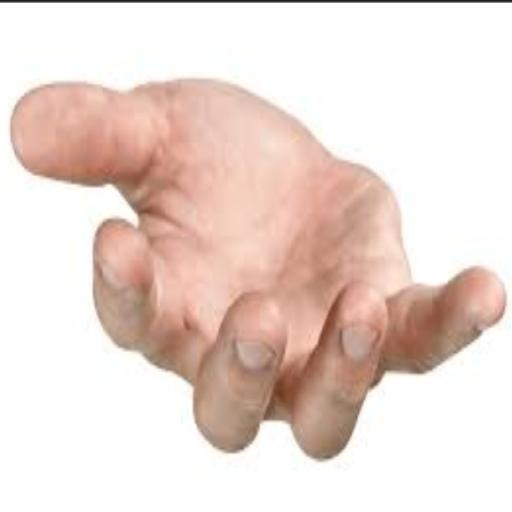Open_Palm: (3, 38, 512, 496)
